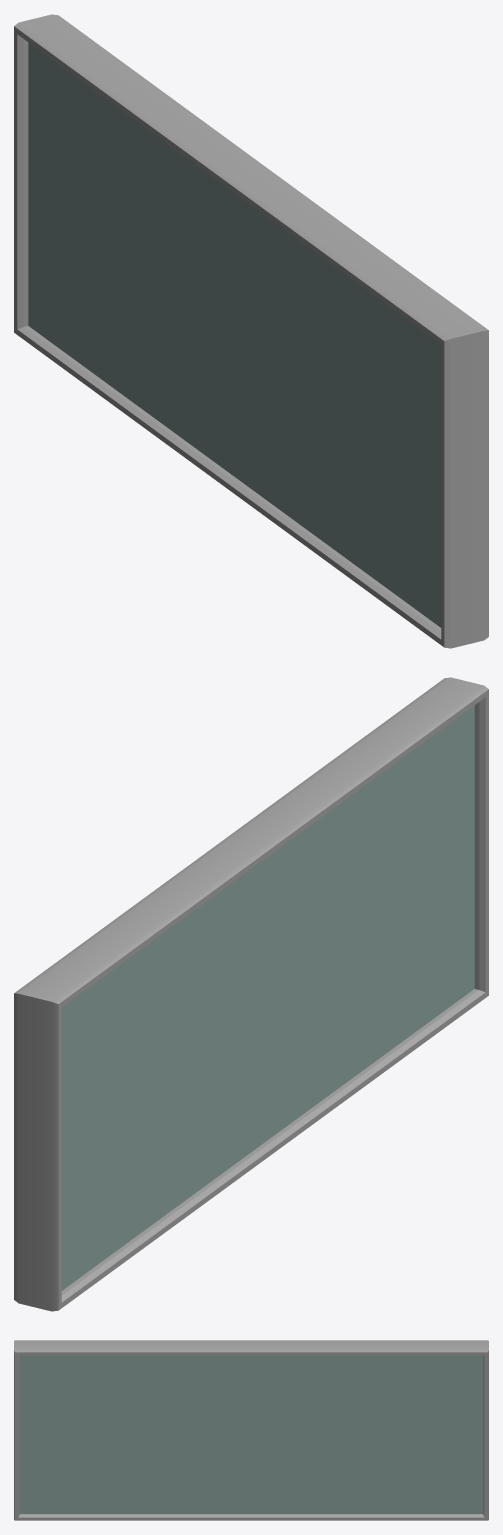
File: vent.fbx
The picture shows the model from 3 angles, top to bottom: view 1: azimuth 30°, elevation 25°; view 2: azimuth 150°, elevation 25°; view 3: azimuth 270°, elevation 25°; orthographic projection. The views are drawn at different scales.
Parts seen in each view (by area): view 1: Ventana; view 2: Ventana; view 3: Ventana.
Boxes of the visible parts, x1,y1,x2,y2 form: Ventana: (14, 14, 488, 648); Ventana: (14, 677, 488, 1311); Ventana: (14, 1340, 488, 1520).
Size of the model in its own units: 56.2 by 373 by 944.
